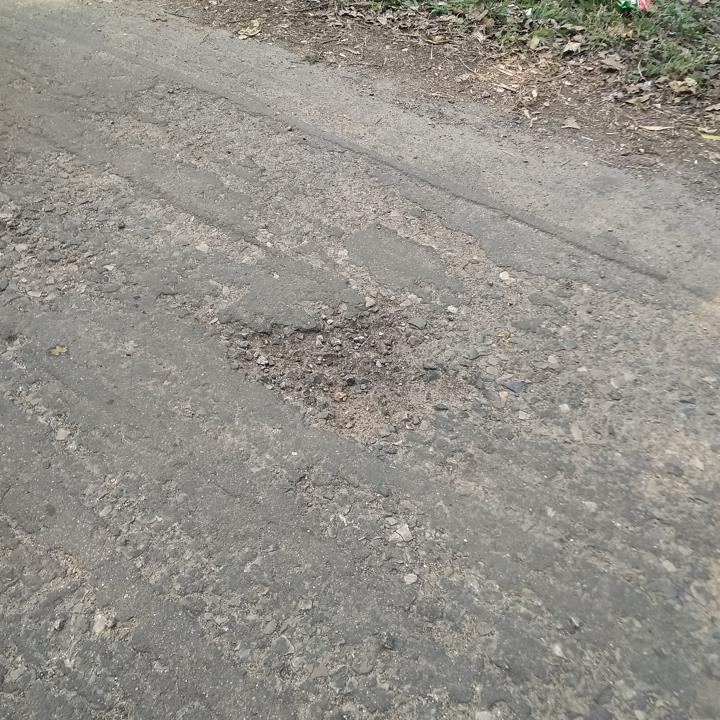pothole: (225, 311, 486, 446)
